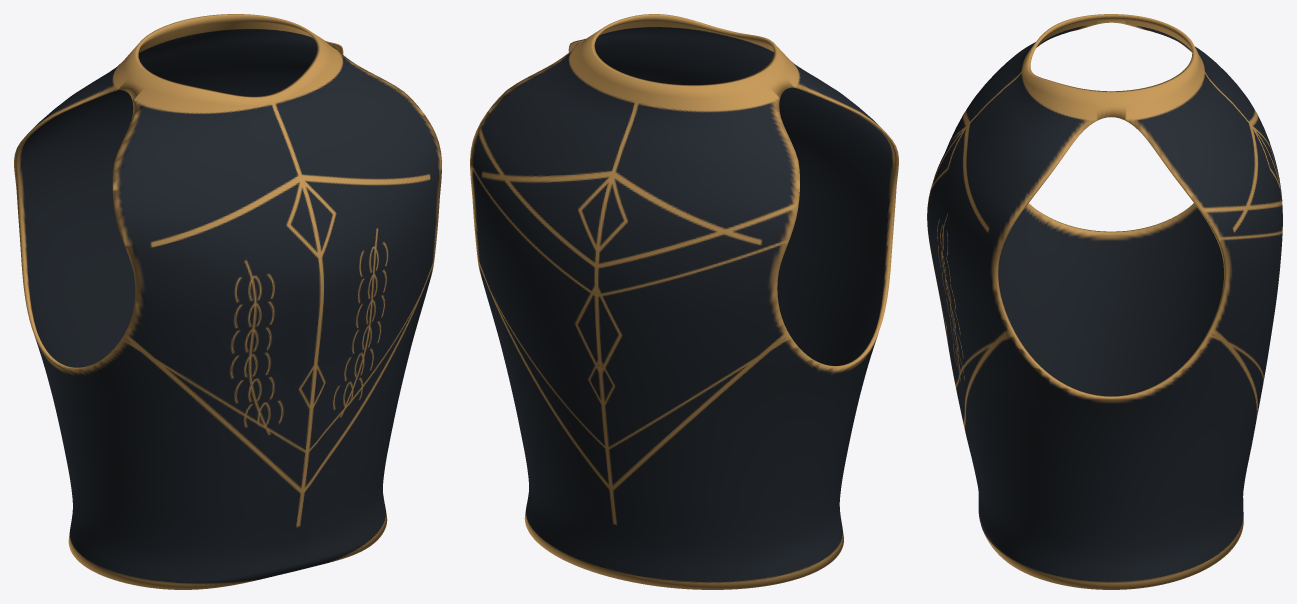
Rendered from SM_ObsidianSovereign_Chest_preview_2K.glb.
The picture shows the model from 3 angles, left to right: view 1: azimuth 30°, elevation 25°; view 2: azimuth 150°, elevation 25°; view 3: azimuth 270°, elevation 25°; orthographic projection. The views are drawn at different scales.
Parts seen in each view (by area): view 1: SM_ObsidianSovereign_Chest_LOD0; view 2: SM_ObsidianSovereign_Chest_LOD0; view 3: SM_ObsidianSovereign_Chest_LOD0.
Part boxes in pixels (x1,y1,x2,y2): SM_ObsidianSovereign_Chest_LOD0: (14,14,441,589); SM_ObsidianSovereign_Chest_LOD0: (470,14,898,589); SM_ObsidianSovereign_Chest_LOD0: (927,14,1282,589).
Size of the model in its own units: 0.3632 by 0.476 by 0.3282.
1 material, 1 textured.
